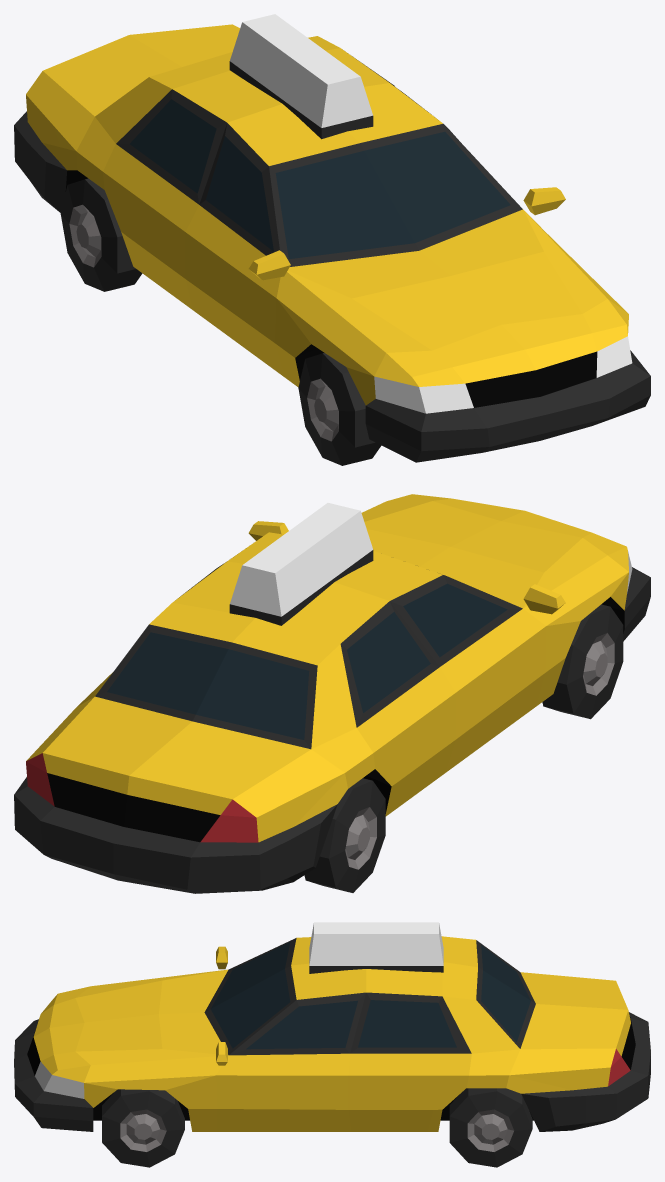
File: car-taxi.glb
3 renders of one model, top to bottom at view 1: azimuth 30°, elevation 25°; view 2: azimuth 150°, elevation 25°; view 3: azimuth 270°, elevation 25°, orthographic. The views are drawn at different scales.
Visible parts, largest first — view 1: car-taxi-base, car-taxi-wheel_FR, car-taxi-wheel_BR; view 2: car-taxi-base, car-taxi-wheel_BR, car-taxi-wheel_FR; view 3: car-taxi-base, car-taxi-wheel_BL, car-taxi-wheel_FL.
Boxes of the visible parts, box(x1,y1,x2,y2) form: car-taxi-base: box(14, 14, 650, 462); car-taxi-wheel_FR: box(298, 353, 381, 465); car-taxi-wheel_BR: box(60, 178, 142, 291); car-taxi-base: box(14, 494, 650, 893); car-taxi-wheel_BR: box(304, 778, 385, 892); car-taxi-wheel_FR: box(542, 604, 623, 719); car-taxi-base: box(14, 922, 650, 1131); car-taxi-wheel_BL: box(449, 1088, 532, 1167); car-taxi-wheel_FL: box(102, 1089, 184, 1167).
Size of the model in its own units: 2.19 by 1.77 by 5.35.
1 material, 1 textured.
